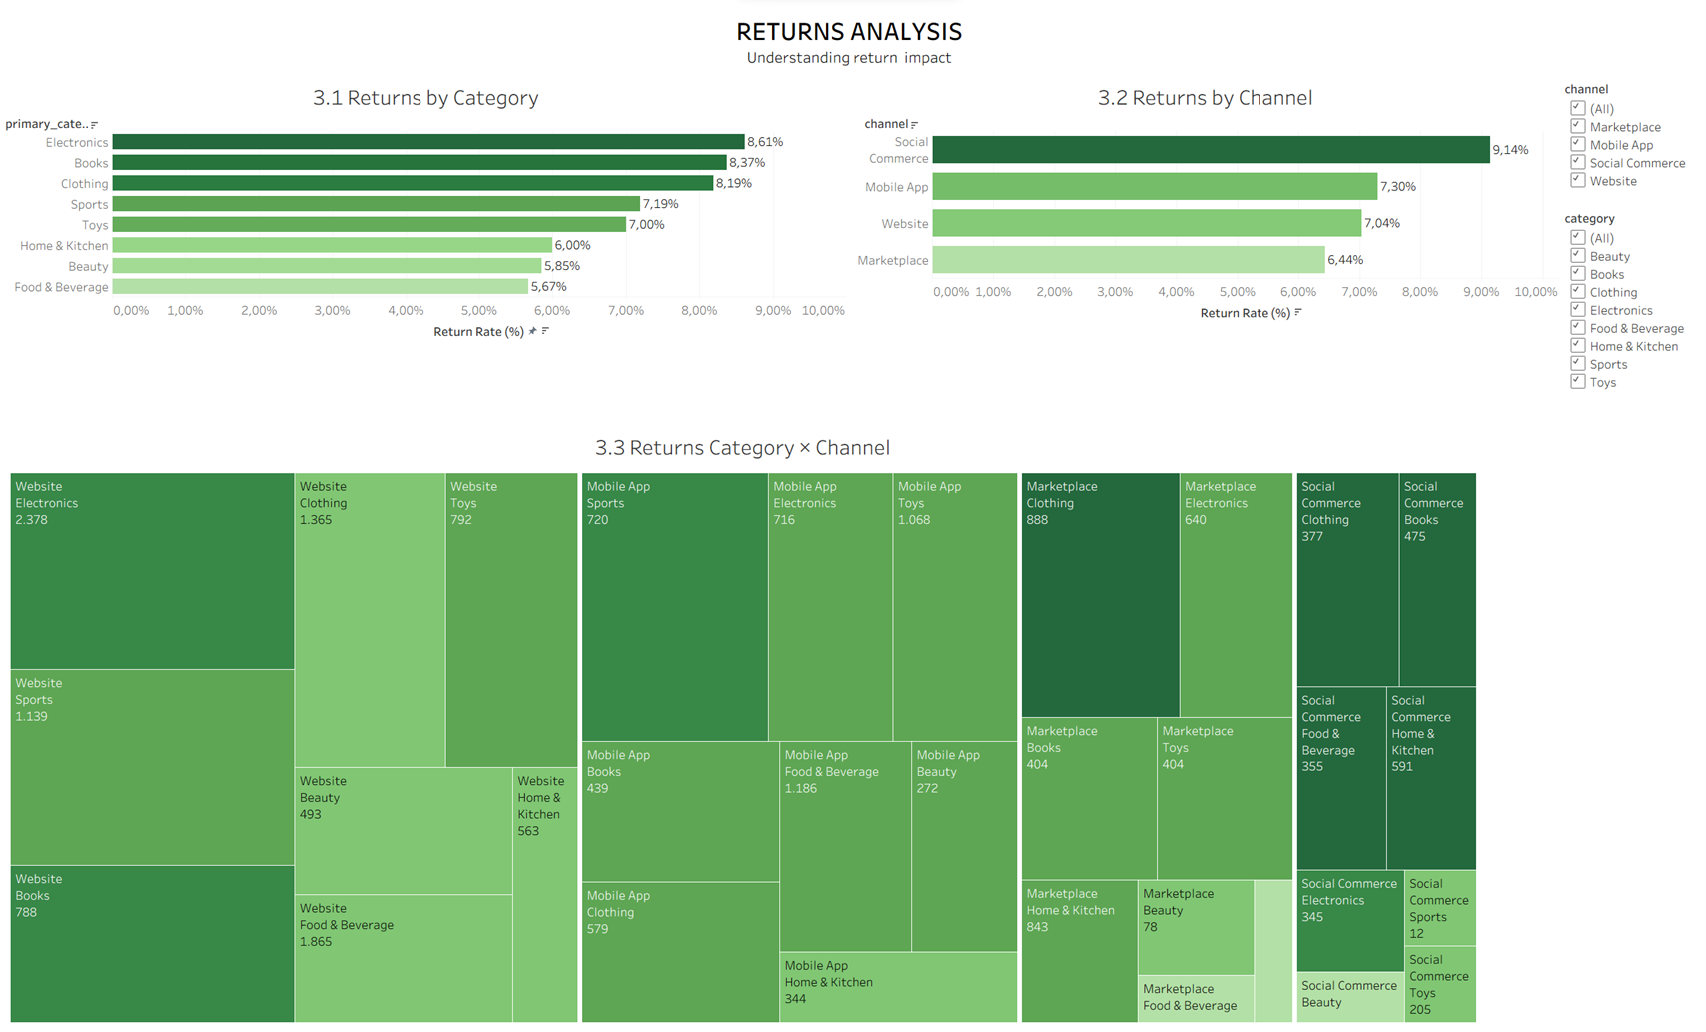

The dashboard page shown, as its layout file describes it:
{"tool":"tableau","page":{"name":" Return Analysis","canvas":[1000,1000],"units":"permille","ordinal":0},"visuals":[{"type":"text","box":[3.6,5.7,992.9,70.8]},{"type":"worksheet","title":"3.1 Returns by Category","mark":"Bar","rows":["primary_category"],"cols":["Calculation_0162761120411652"],"box":[3.6,76.5,496.4,336.9]},{"type":"worksheet","title":"3.2 Returns by Channel","mark":"Bar","rows":["channel"],"cols":["return rate (%) (copy)_0855453787377669"],"box":[500,76.5,418.1,336.9]},{"type":"filter","title":"3.3 Returns Category × Channel","param":"[federated.1su0xpl1veuay017pf5t31yro4vt].[none:channel:nk]","box":[918,76.5,78.4,124.5]},{"type":"filter","title":"3.1 Returns by Category","param":"[federated.1e2zac10m7axt21d1h3c01f4odkr].[none:primary_category:nk]","box":[918,201,78.4,212.5]},{"type":"worksheet","title":"3.3 Returns Category × Channel","mark":"Automatic","box":[3.6,413.4,992.9,580.9]}]}

Visuals, with their boxes on the dashboard's canvas, which has no fixed pixel size, in thousandths of its width and height (x1, y1, x2, y2). These are canvas units, not pixel positions in the 1706x1032 screenshot, which may show the page scaled, cropped or inside an application window:
text: 4 6 996 76
"3.1 Returns by Category" worksheet (Bar marks): 4 76 500 413
"3.2 Returns by Channel" worksheet (Bar marks): 500 76 918 413
"3.3 Returns Category × Channel" filter: 918 76 996 201
"3.1 Returns by Category" filter: 918 201 996 414
"3.3 Returns Category × Channel" worksheet: 4 413 996 994
